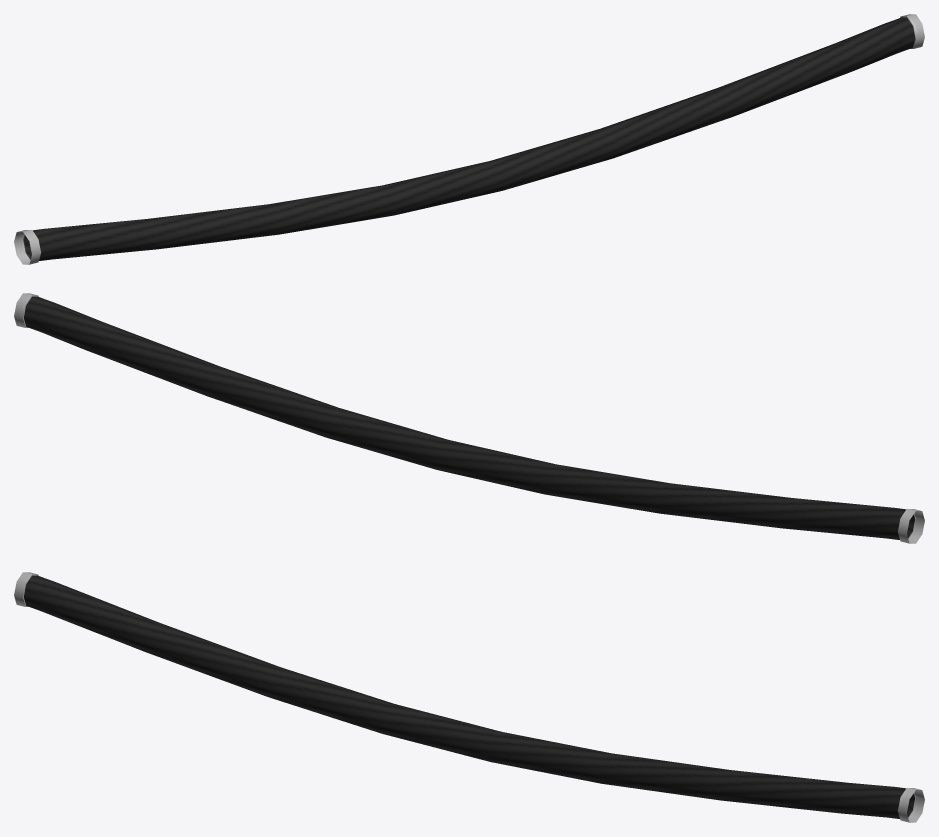
Rendered from ElectricalWires03_02.glb.
3 views of the same model, one above another, from view 1: azimuth 30°, elevation 25°; view 2: azimuth 150°, elevation 25°; view 3: azimuth 330°, elevation 25° (orthographic).
Parts seen in each view (by area): view 1: NurbsPath_001; view 2: NurbsPath_001; view 3: NurbsPath_001.
Part boxes in pixels (x1,y1,x2,y2): NurbsPath_001: (14, 14, 924, 264); NurbsPath_001: (14, 293, 924, 543); NurbsPath_001: (14, 572, 924, 822).
Size of the model in its own units: 3.62 by 0.2888 by 0.1271.
Materials: 1 (1 with a texture image).
